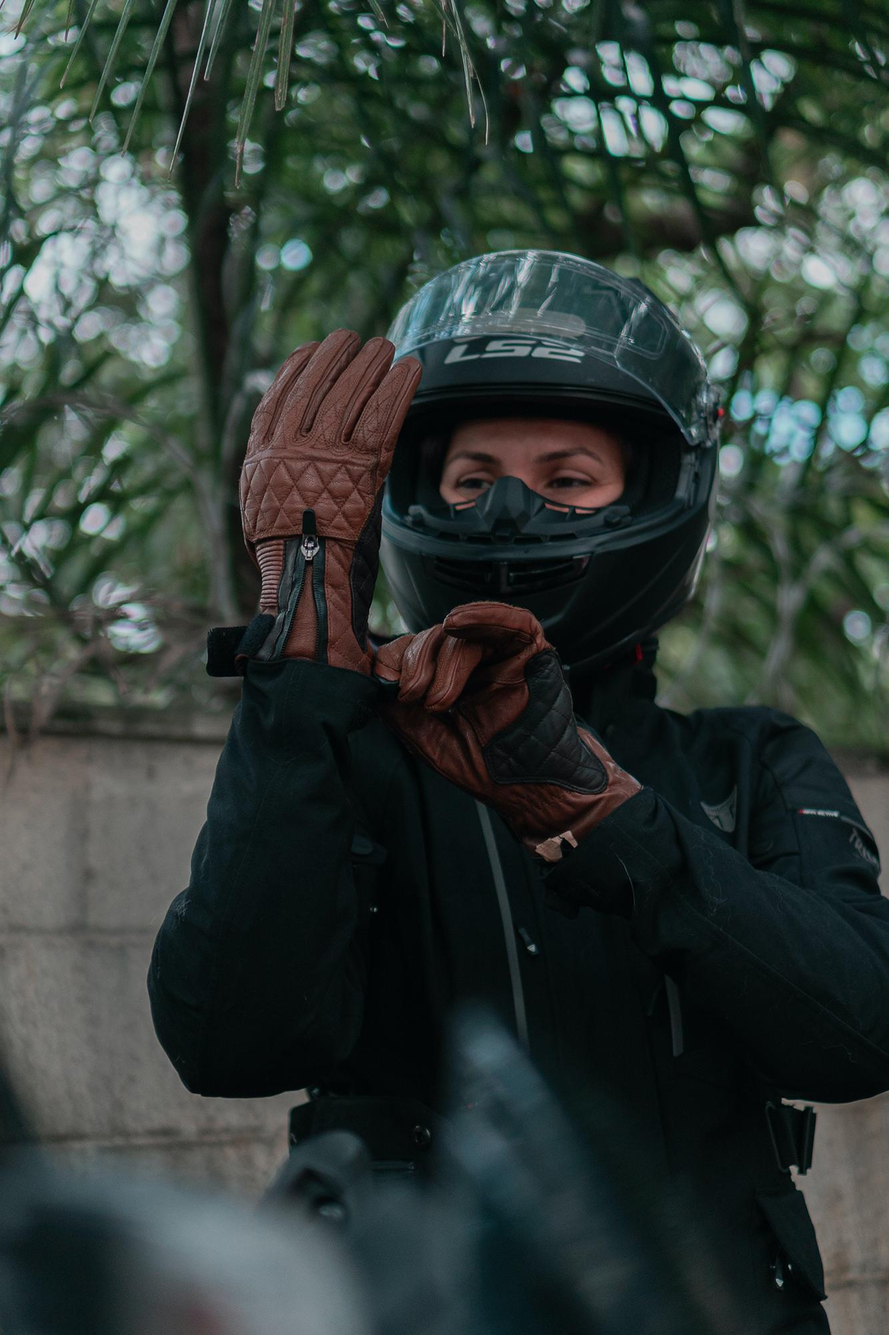helmet: (353, 245, 731, 699)
